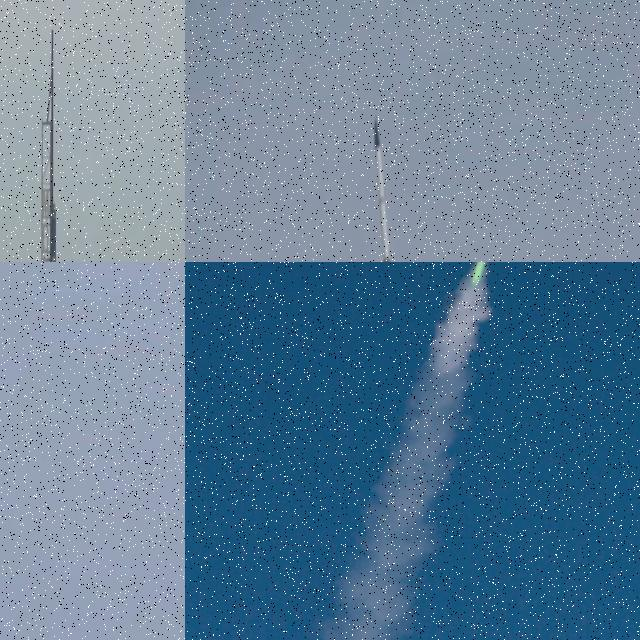Rocket: (371, 115, 398, 262), (45, 198, 62, 262)
